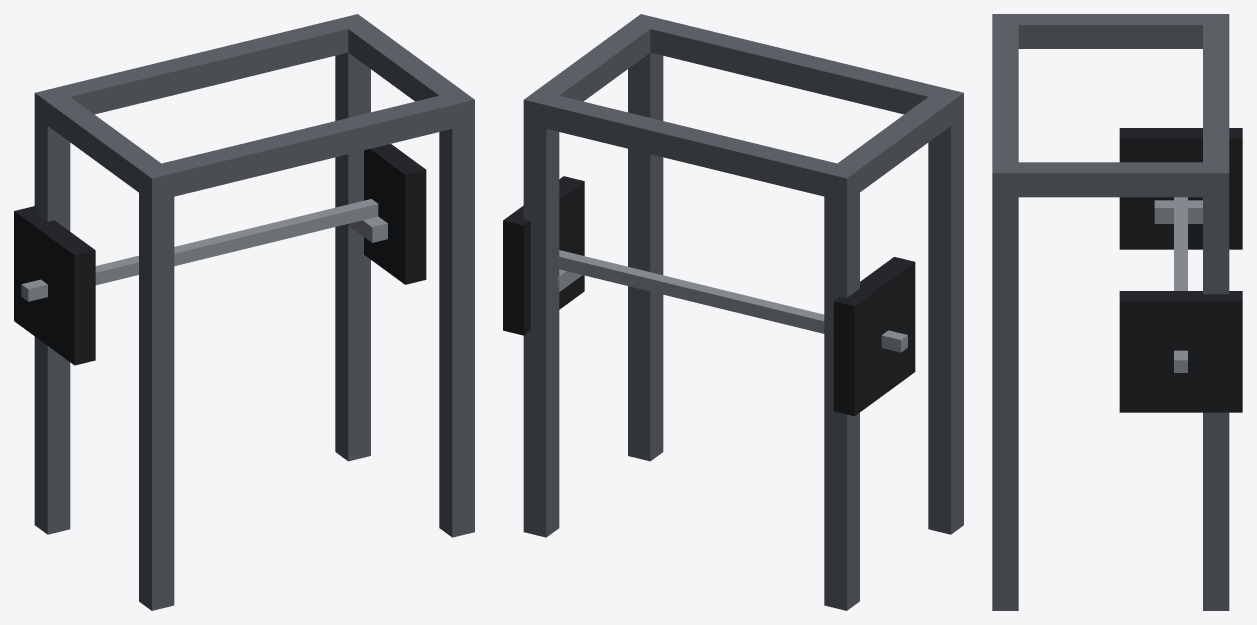
File: SquatRack.fbx
3 views of the same model, side by side, from view 1: azimuth 30°, elevation 25°; view 2: azimuth 150°, elevation 25°; view 3: azimuth 270°, elevation 25° (orthographic).
Visible parts, largest first — view 1: SquatRack_Mesh; view 2: SquatRack_Mesh; view 3: SquatRack_Mesh.
Boxes of the visible parts, <box> form: SquatRack_Mesh: <box>14,14,474,610</box>; SquatRack_Mesh: <box>503,14,963,610</box>; SquatRack_Mesh: <box>992,14,1242,610</box>.
Bounding box in the file's own units: 2.6 × 2.75 × 1.43.
1 material, 1 textured.
